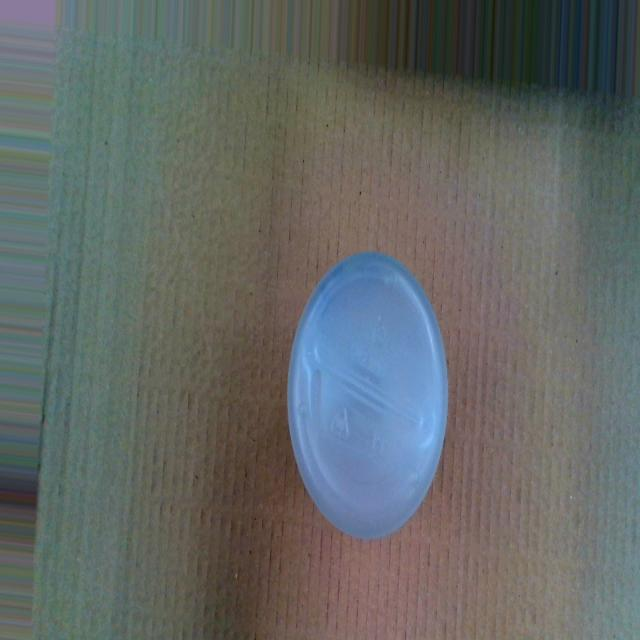bottle: (280, 245, 453, 546)
